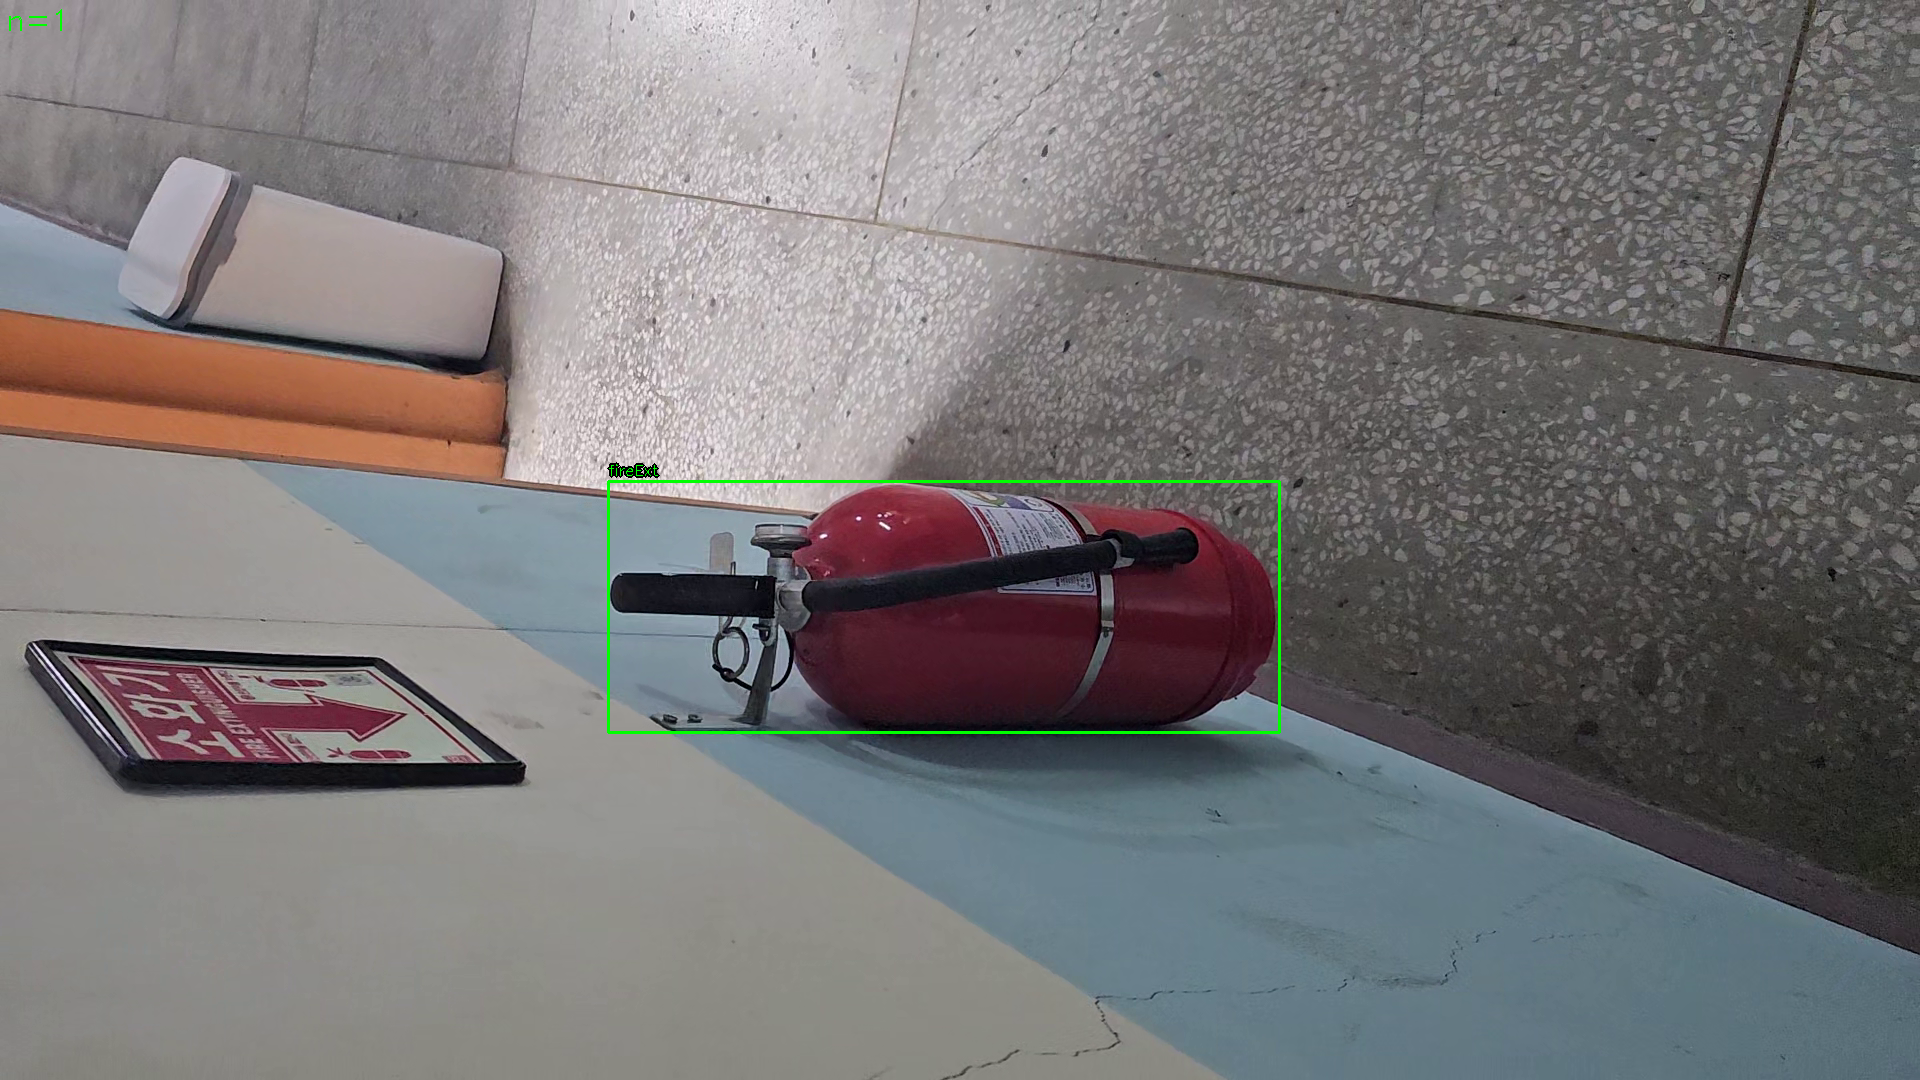lane: (608, 481, 1280, 733)
